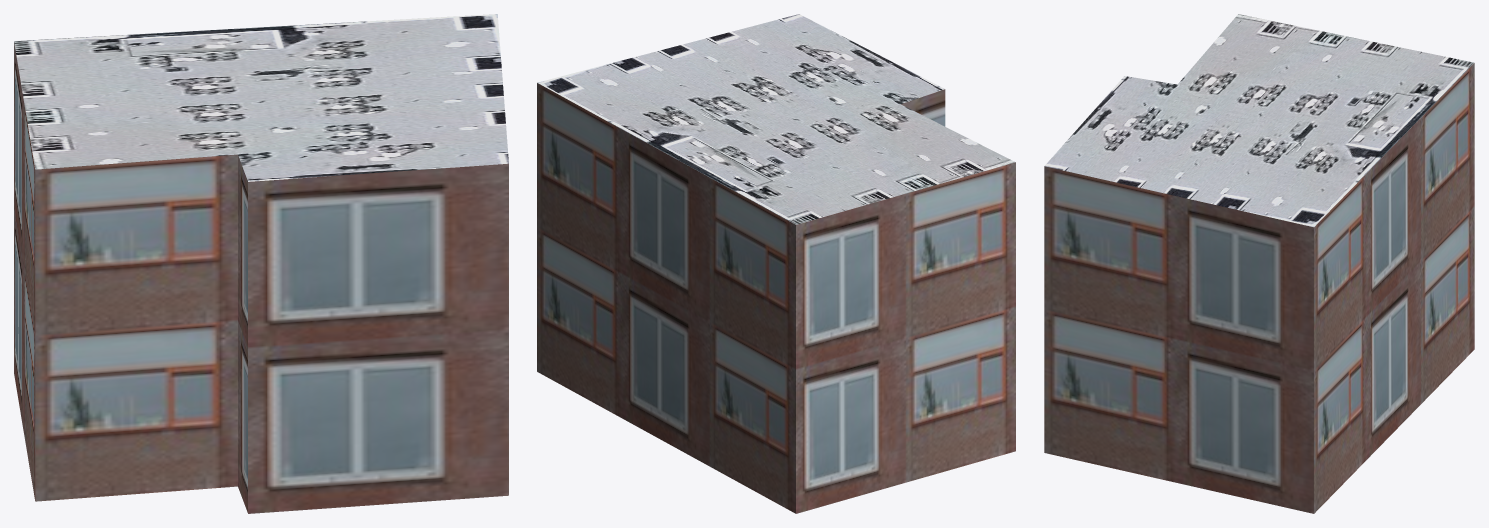
File: ResTex__3051.fbx
The picture shows the model from 3 angles, left to right: view 1: azimuth 30°, elevation 25°; view 2: azimuth 150°, elevation 25°; view 3: azimuth 270°, elevation 25°; orthographic projection. The views are drawn at different scales.
Parts seen in each view (by area): view 1: CityEngineMaterial_19_m, CityEngineMaterial_15_m; view 2: CityEngineMaterial_19_m, CityEngineMaterial_15_m; view 3: CityEngineMaterial_19_m, CityEngineMaterial_15_m.
Part boxes in pixels (x1=…): CityEngineMaterial_19_m: x1=14, y1=42, x2=508, y2=513; CityEngineMaterial_15_m: x1=14, y1=14, x2=508, y2=181; CityEngineMaterial_19_m: x1=537, y1=83, x2=1015, y2=513; CityEngineMaterial_15_m: x1=537, y1=14, x2=1015, y2=224; CityEngineMaterial_19_m: x1=1044, y1=63, x2=1474, y2=513; CityEngineMaterial_15_m: x1=1044, y1=14, x2=1474, y2=227.
Bounding box in the file's own units: 9.58 × 6 × 8.17.
2 materials, 2 textured.
